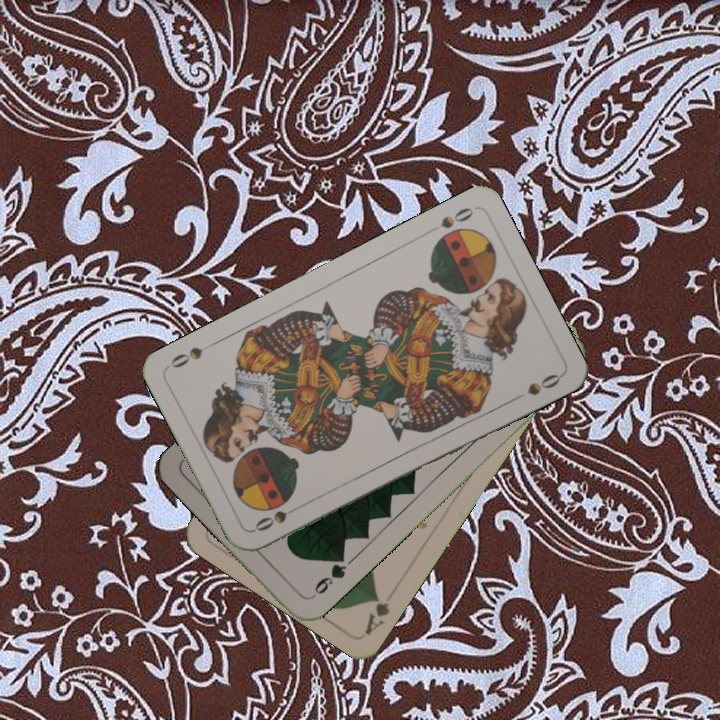G9: (306, 550, 349, 602)
GA: (361, 591, 393, 637)
SO: (250, 500, 305, 534), (437, 203, 476, 231)
